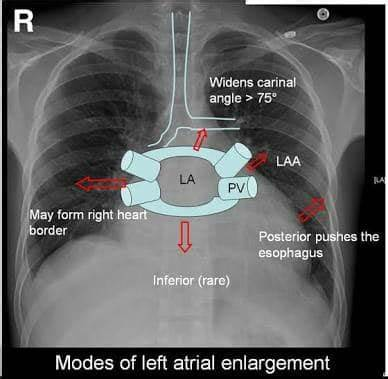telestration: (116, 145, 261, 215), (52, 352, 331, 370), (28, 208, 148, 242), (258, 230, 381, 258), (208, 73, 298, 105), (152, 272, 234, 290), (6, 7, 41, 34), (72, 176, 129, 192), (299, 196, 321, 224), (178, 220, 192, 252), (274, 153, 299, 169), (194, 126, 209, 152), (249, 152, 269, 169)
